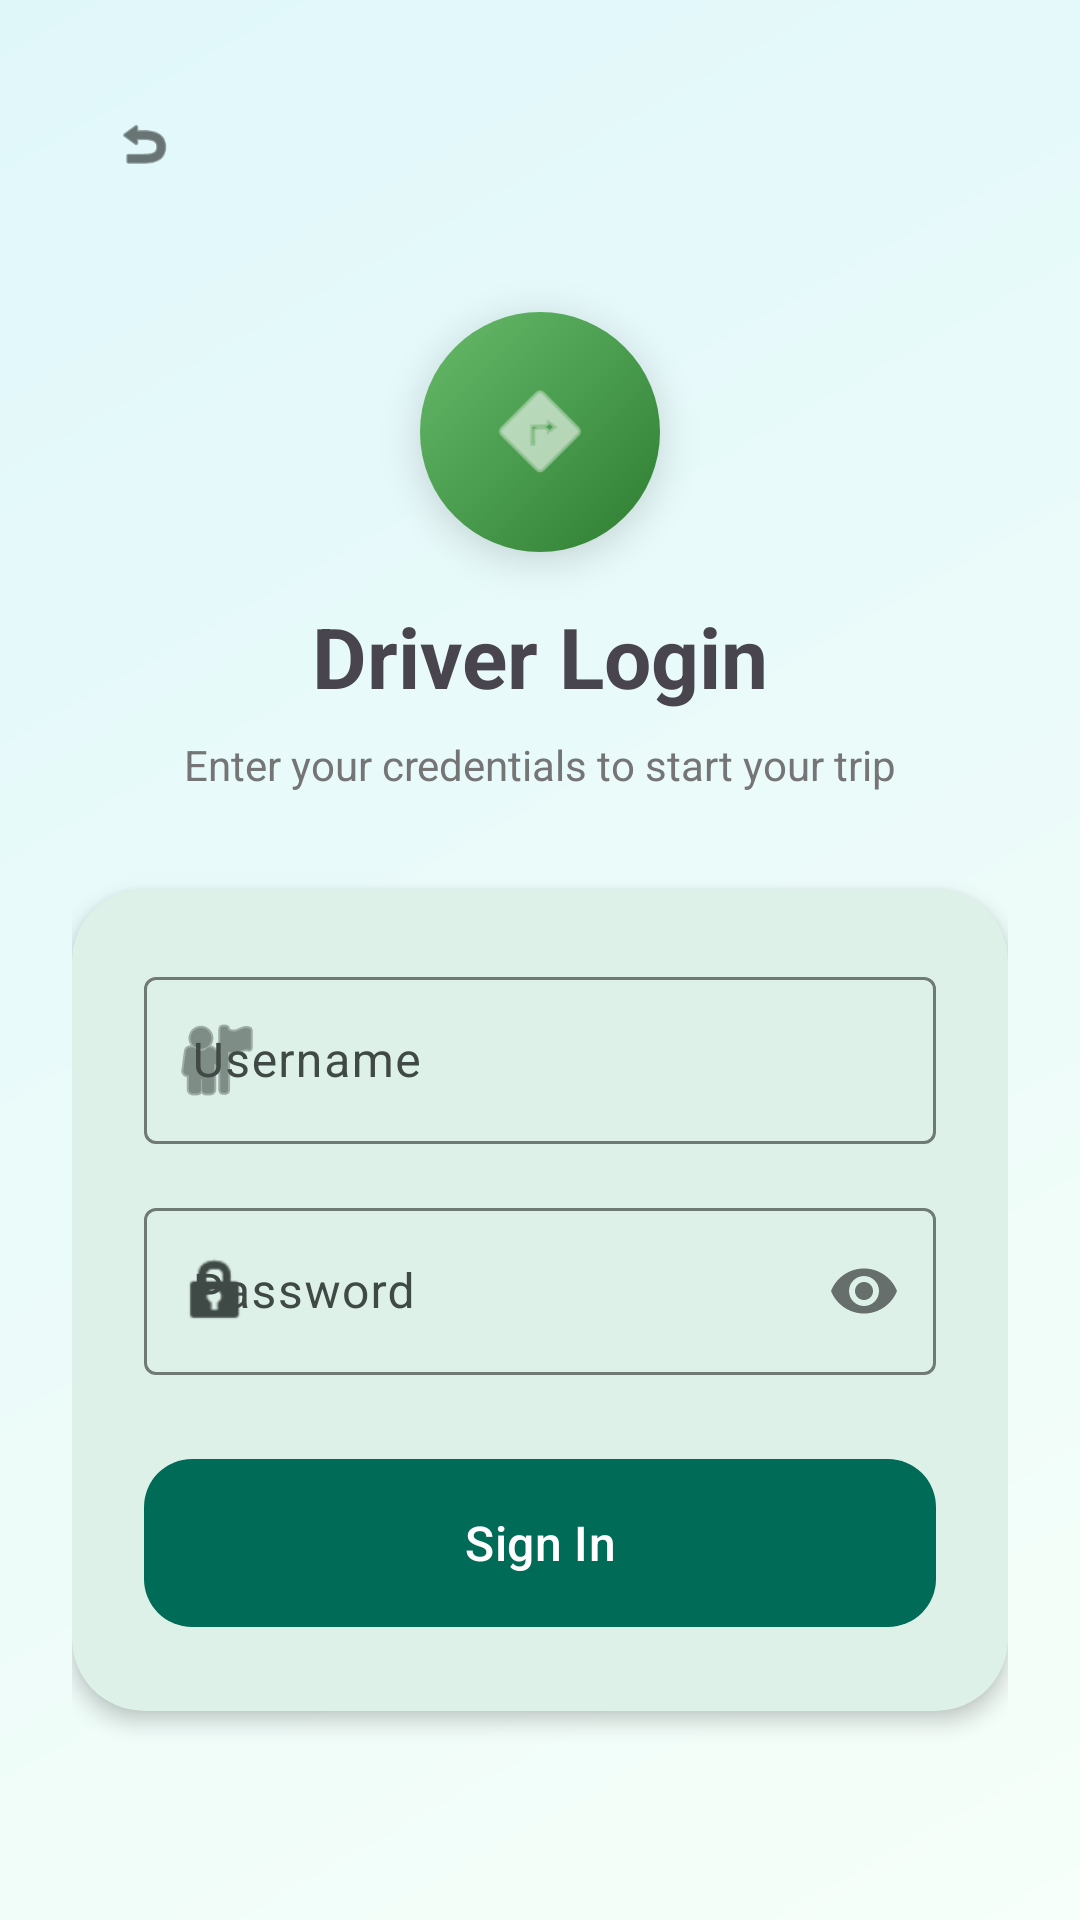

Where to tap for icons on this 1080x1920 app screen, as (x,y):
directions: (540,431)
revert: (144,144)
